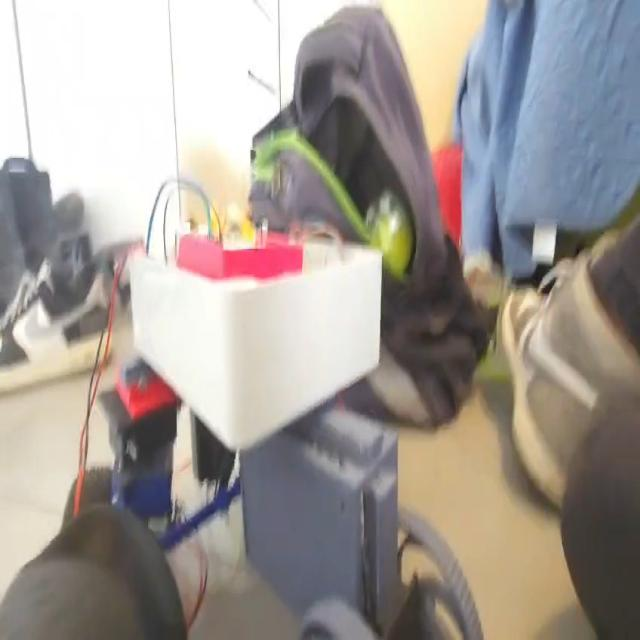Robot: (58, 208, 486, 639)
